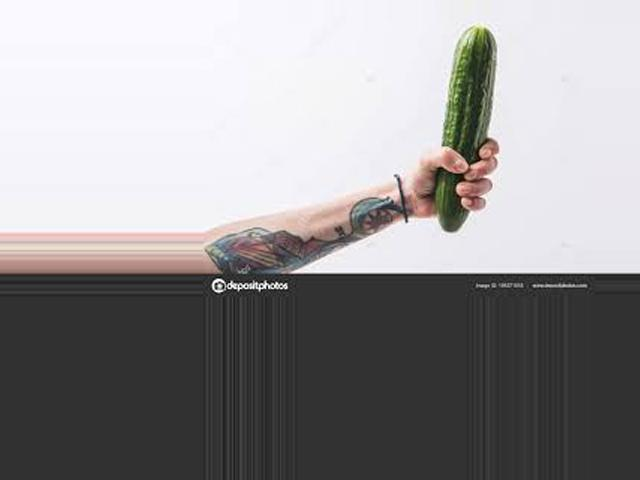cucumber: (436, 24, 497, 230)
